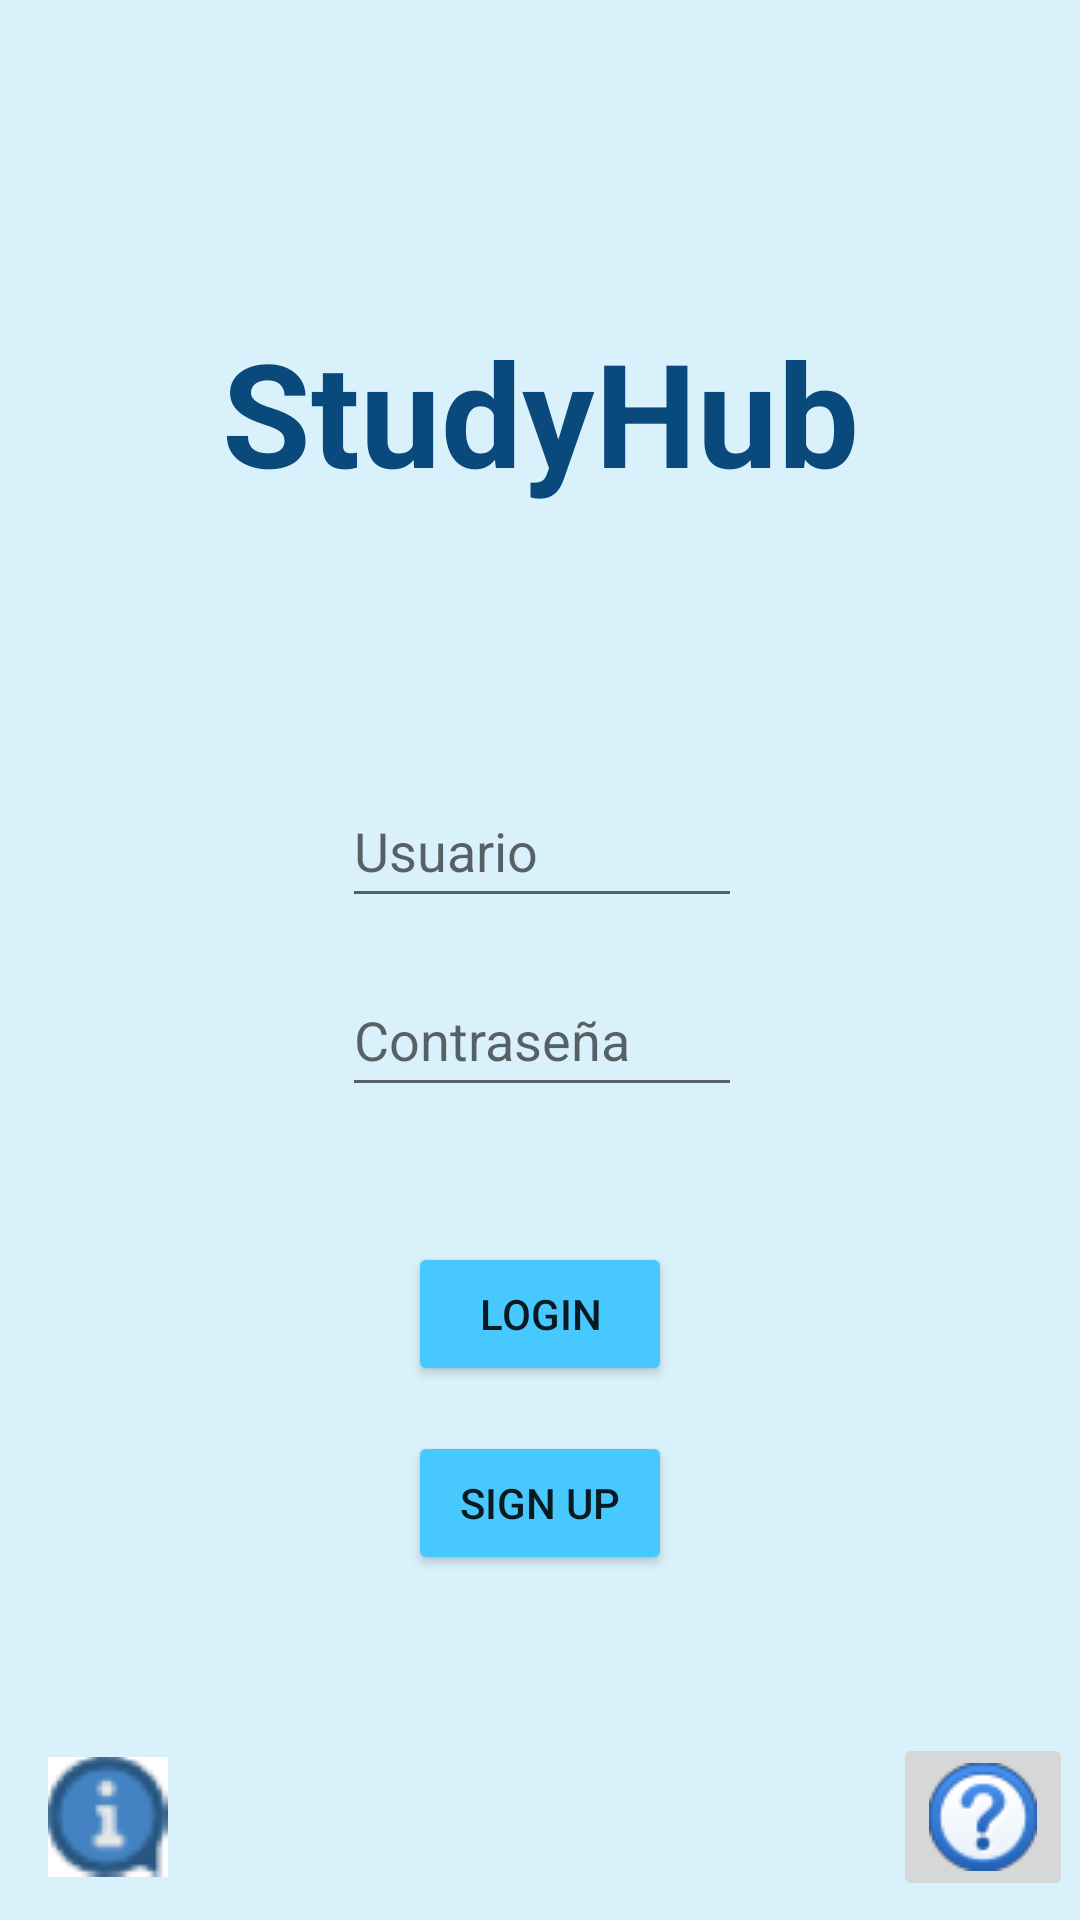

Icon bounding boxes for this 1080 x 1920 phone screenshot, format (x1, y1, x2, y2):
ayuda: (905, 1751, 1061, 1883)
informacion: (48, 1757, 168, 1877)
